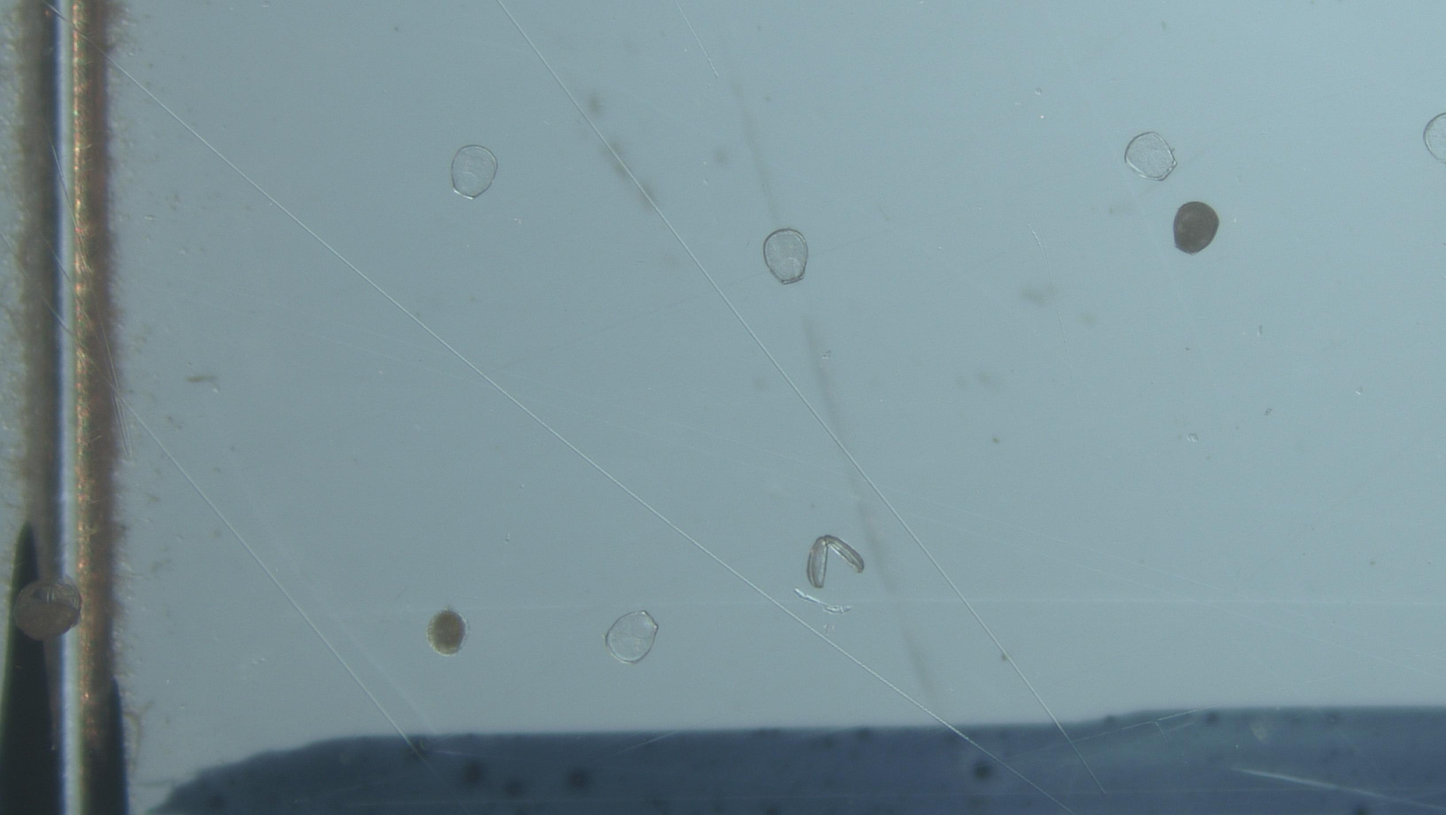dead: (606, 611, 658, 664), (1124, 132, 1177, 181), (763, 229, 809, 285), (451, 145, 498, 199), (1424, 114, 1446, 163)
live: (12, 580, 82, 641), (1175, 203, 1219, 254), (428, 609, 466, 656)
